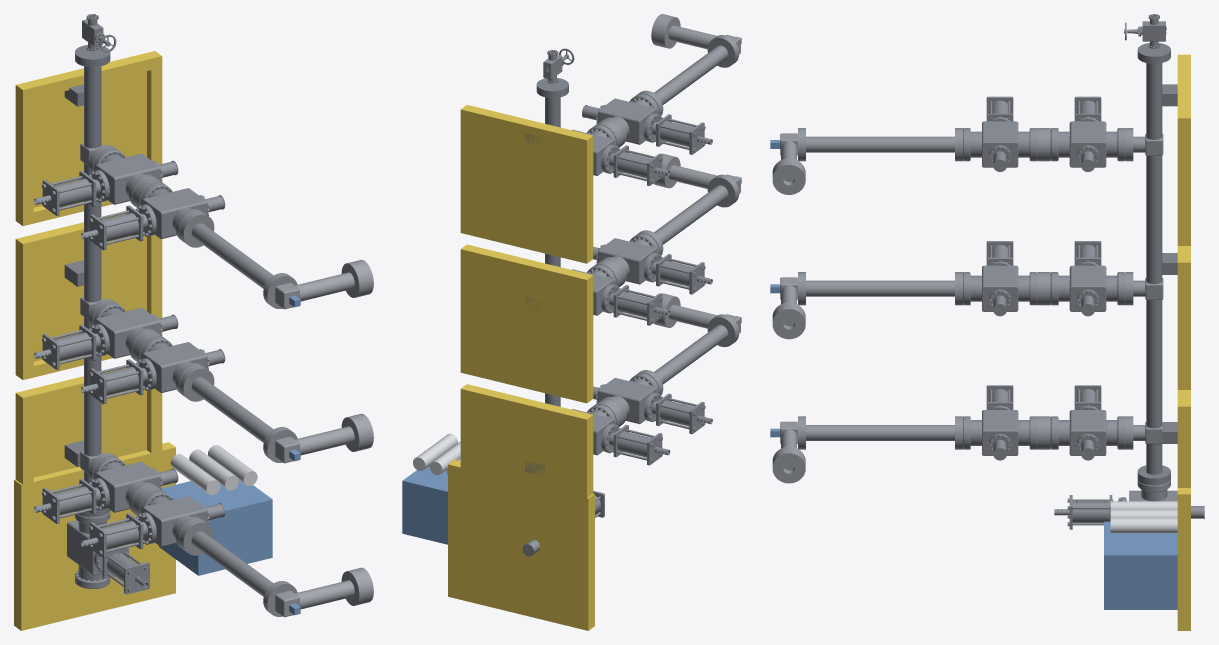
The model's file is WH-ZIPPER.7-15K.glb.
The picture shows the model from 3 angles, left to right: view 1: azimuth 30°, elevation 25°; view 2: azimuth 150°, elevation 25°; view 3: azimuth 270°, elevation 25°; orthographic projection. The views are drawn at different scales.
Parts seen in each view (by area): view 1: WH-ZIPPER-SKID, WH-ZIPPER-ISOVALVE, WH-ZIPPER-VALVE, WH-ZIPPER-LEG, WH-ZIPPER-OUTLET, WH-ZIPPER-INLETHEADER, WH-ZIPPER-HPU, WH-ZIPPER-INLETVALVE, WH-ZIPPER-ACCUMULATOR, WH-ZIPPER-BLEEDVALVE; view 2: WH-ZIPPER-SKID, WH-ZIPPER-VALVE, WH-ZIPPER-ISOVALVE, WH-ZIPPER-LEG, WH-ZIPPER-OUTLET, WH-ZIPPER-HPU, WH-ZIPPER-INLETHEADER, WH-ZIPPER-ACCUMULATOR, WH-ZIPPER-BLEEDVALVE, WH-ZIPPER-INLETVALVE; view 3: WH-ZIPPER-LEG, WH-ZIPPER-ISOVALVE, WH-ZIPPER-VALVE, WH-ZIPPER-INLETHEADER, WH-ZIPPER-SKID, WH-ZIPPER-HPU, WH-ZIPPER-OUTLET, WH-ZIPPER-INLETVALVE, WH-ZIPPER-ACCUMULATOR, WH-ZIPPER-BLEEDVALVE.
Part boxes in pixels (x1=…): WH-ZIPPER-SKID: x1=14, y1=51, x2=175, y2=630; WH-ZIPPER-ISOVALVE: x1=34, y1=148, x2=178, y2=523; WH-ZIPPER-VALVE: x1=81, y1=183, x2=225, y2=558; WH-ZIPPER-LEG: x1=80, y1=143, x2=297, y2=616; WH-ZIPPER-OUTLET: x1=275, y1=259, x2=373, y2=617; WH-ZIPPER-INLETHEADER: x1=64, y1=45, x2=110, y2=517; WH-ZIPPER-HPU: x1=159, y1=480, x2=272, y2=575; WH-ZIPPER-INLETVALVE: x1=67, y1=511, x2=149, y2=594; WH-ZIPPER-ACCUMULATOR: x1=170, y1=445, x2=257, y2=495; WH-ZIPPER-BLEEDVALVE: x1=82, y1=14, x2=116, y2=52; WH-ZIPPER-SKID: x1=448, y1=105, x2=594, y2=630; WH-ZIPPER-VALVE: x1=582, y1=93, x2=712, y2=434; WH-ZIPPER-ISOVALVE: x1=572, y1=125, x2=670, y2=465; WH-ZIPPER-LEG: x1=594, y1=35, x2=739, y2=426; WH-ZIPPER-OUTLET: x1=651, y1=14, x2=740, y2=332; WH-ZIPPER-HPU: x1=402, y1=466, x2=447, y2=544; WH-ZIPPER-INLETHEADER: x1=525, y1=78, x2=568, y2=474; WH-ZIPPER-ACCUMULATOR: x1=413, y1=433, x2=460, y2=475; WH-ZIPPER-BLEEDVALVE: x1=543, y1=48, x2=574, y2=83; WH-ZIPPER-INLETVALVE: x1=522, y1=491, x2=604, y2=556; WH-ZIPPER-LEG: x1=798, y1=128, x2=1163, y2=449; WH-ZIPPER-ISOVALVE: x1=1050, y1=96, x2=1125, y2=460; WH-ZIPPER-VALVE: x1=963, y1=96, x2=1037, y2=460; WH-ZIPPER-INLETHEADER: x1=1137, y1=43, x2=1177, y2=485; WH-ZIPPER-SKID: x1=1177, y1=54, x2=1190, y2=630; WH-ZIPPER-HPU: x1=1104, y1=521, x2=1177, y2=609; WH-ZIPPER-OUTLET: x1=772, y1=133, x2=805, y2=483; WH-ZIPPER-INLETVALVE: x1=1054, y1=479, x2=1204, y2=529; WH-ZIPPER-ACCUMULATOR: x1=1110, y1=501, x2=1177, y2=533; WH-ZIPPER-BLEEDVALVE: x1=1124, y1=14, x2=1166, y2=48.
Size of the model in its own units: 4.03 by 9.56 by 6.59.
